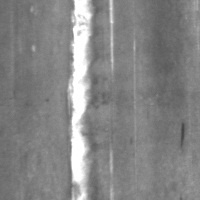inclusion: (177, 118, 189, 150)
scratches: (65, 1, 98, 200), (105, 1, 118, 76), (105, 140, 118, 200)
